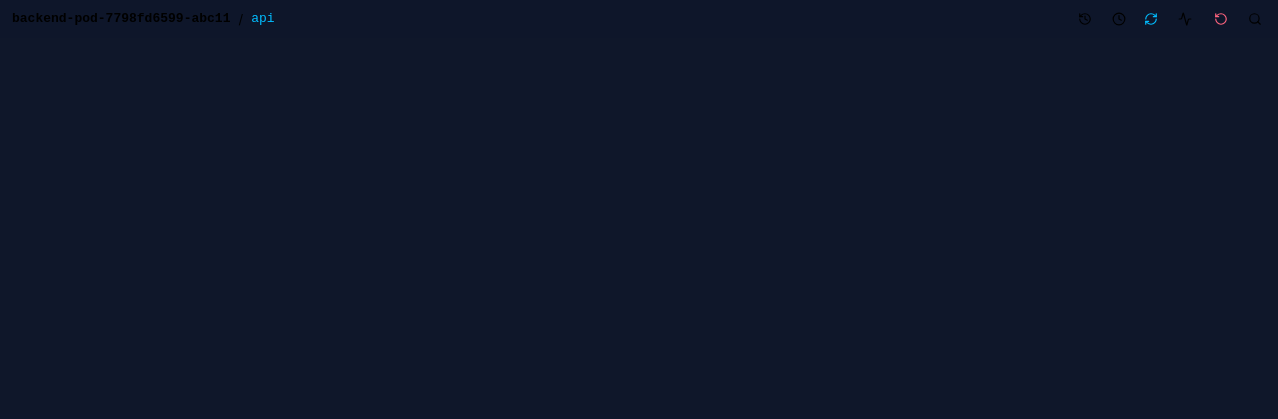
Test: K8sLogView › toggles auto-reconnect via toolbar button
This screenshot has width=1278, height=419.
Click the button with test id "toggle-auto-reconnect" at (1151, 19), box [1138,6,1164,32]
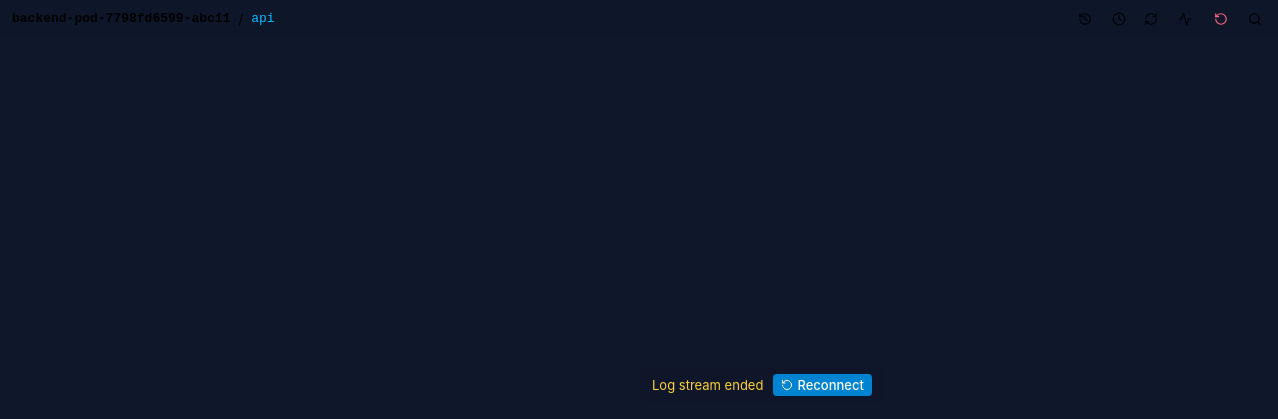
Expected: the element with test id "stream-ended-banner" is shown, [640,368,884,402]
